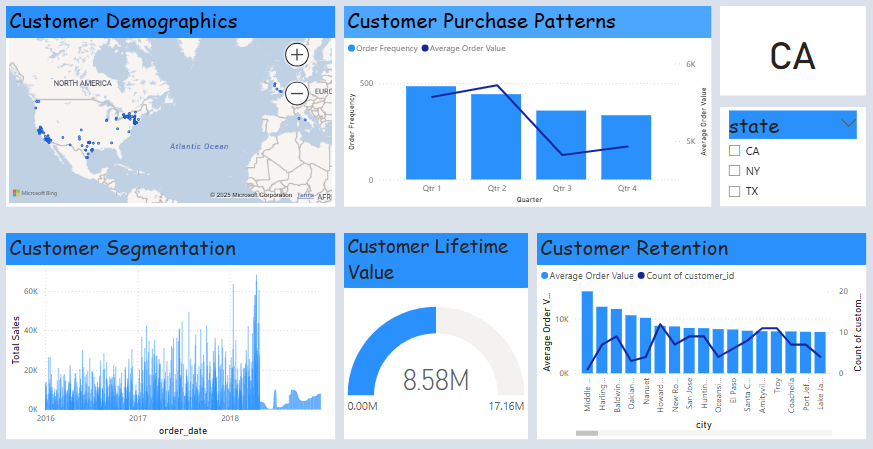

This screenshot's page, from the dashboard's own definition file:
{"tool":"powerbi","page":{"name":"Page 1","canvas":[1280,720],"ordinal":0},"visuals":[{"type":"map","title":"Customer Demographics","fields":{"Category":["sales customers.city","sales customers.state"]},"box":[11.8,33.6,473.7,288.9],"z":0},{"type":"lineClusteredColumnComboChart","title":"Customer Purchase Patterns","fields":{"Category":["sales orders.order_date.Variation.Date Hierarchy.Quarter"],"Y":["sales orders.Order Frequency"],"Y2":["sales orders.Average Order Value"]},"box":[498.9,33.6,529.1,288.9],"z":1000},{"type":"card","fields":{"Values":["Min(sales customers.state)"]},"box":[1039.8,33.6,210,129.3],"z":2000},{"type":"gauge","title":"Customer Lifetime Value","fields":{"Y":["sales order_items.Total Sales"]},"box":[498.9,359.5,265.4,297.3],"z":3000},{"type":"ribbonChart","title":"Customer Segmentation","fields":{"Y":["sales order_items.Total Sales"],"Category":["sales orders.order_date"]},"box":[11.8,359.5,473.7,297.3],"z":4000},{"type":"lineStackedColumnComboChart","title":"Customer Retention","fields":{"Category":["sales customers.city"],"Y":["sales orders.Average Order Value"],"Y2":["CountNonNull(sales orders.customer_id)"]},"box":[776.1,359.5,473.7,297.3],"z":5000},{"type":"slicer","fields":{"Values":["sales customers.state"]},"box":[1039.8,178.1,210,142.8],"z":6000}]}

Visuals, with their boxes on the page's 1280x720 design canvas (x1, y1, x2, y2). These are canvas units, not pixel positions in the 873x449 screenshot, which may show the page scaled, cropped or inside an application window:
"Customer Demographics" map: (12, 34, 486, 322)
"Customer Purchase Patterns" lineClusteredColumnComboChart: (499, 34, 1028, 322)
card - Min(sales customers.state): (1040, 34, 1250, 163)
"Customer Lifetime Value" gauge: (499, 360, 764, 657)
"Customer Segmentation" ribbonChart: (12, 360, 486, 657)
"Customer Retention" lineStackedColumnComboChart: (776, 360, 1250, 657)
slicer - sales customers.state: (1040, 178, 1250, 321)
